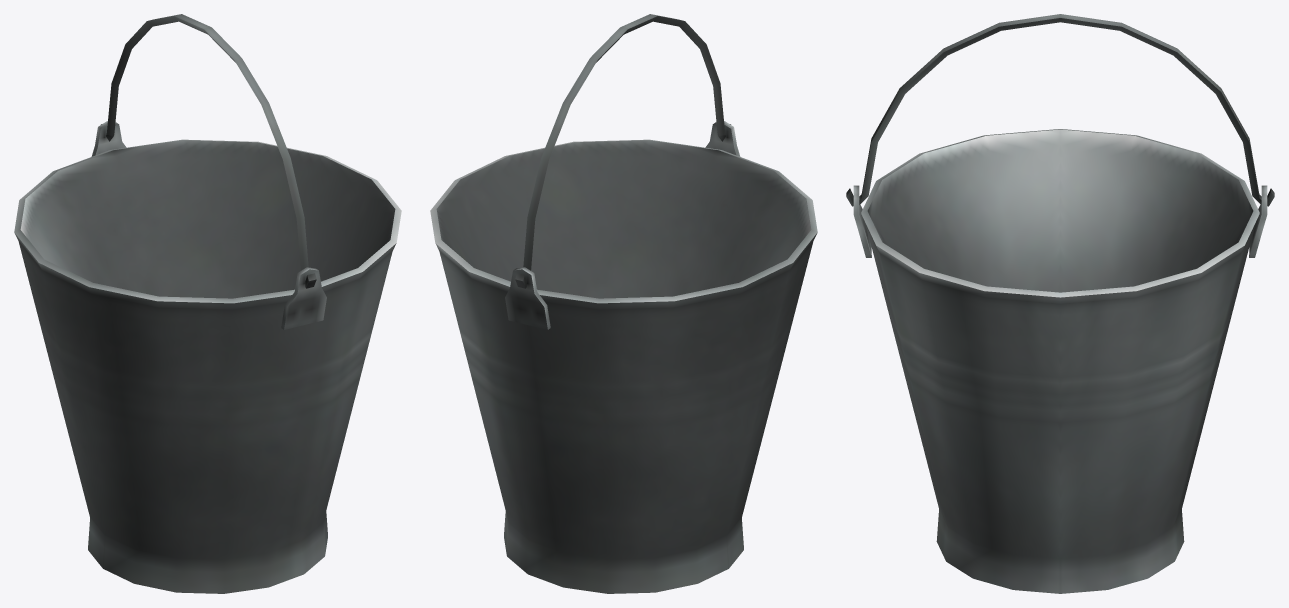
Rendered from G_DanShenHan_tietong_01.FBX.
3 renders of one model, left to right at view 1: azimuth 30°, elevation 25°; view 2: azimuth 150°, elevation 25°; view 3: azimuth 270°, elevation 25°, orthographic. The views are drawn at different scales.
Visible parts, largest first — view 1: DanShenHan_tietong_01; view 2: DanShenHan_tietong_01; view 3: DanShenHan_tietong_01.
Part boxes in pixels (x1,y1,x2,y2): DanShenHan_tietong_01: (14, 14, 401, 593); DanShenHan_tietong_01: (430, 14, 817, 593); DanShenHan_tietong_01: (846, 14, 1274, 593).
Bounding box in the file's own units: 58 × 84.3 × 62.26.
